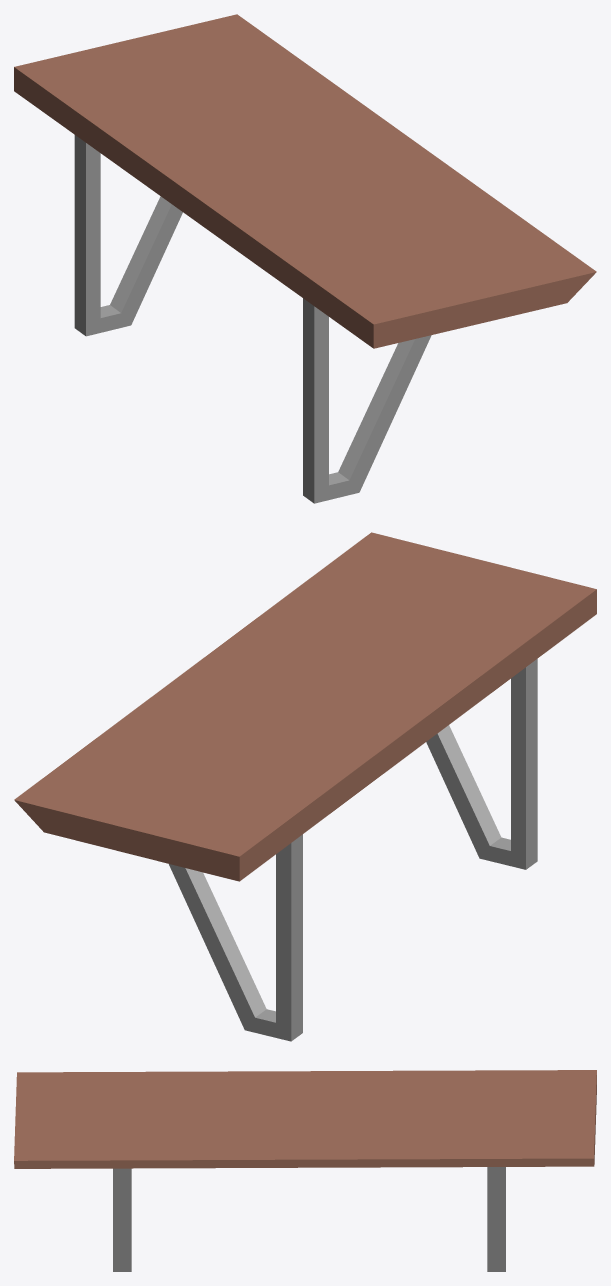
File: TavernShelf-transformed.glb
The picture shows the model from 3 angles, top to bottom: view 1: azimuth 30°, elevation 25°; view 2: azimuth 150°, elevation 25°; view 3: azimuth 270°, elevation 25°; orthographic projection. The views are drawn at different scales.
Parts seen in each view (by area): view 1: Box001, Box002; view 2: Box001, Box002; view 3: Box001, Box002.
Part boxes in pixels (bbox=[...]): Box001: bbox=[14, 14, 596, 348]; Box002: bbox=[74, 135, 431, 503]; Box001: bbox=[14, 532, 596, 881]; Box002: bbox=[169, 659, 537, 1041]; Box001: bbox=[14, 1070, 596, 1168]; Box002: bbox=[113, 1167, 505, 1271].
Bounding box in the file's own units: 183731 × 171409 × 498107.
